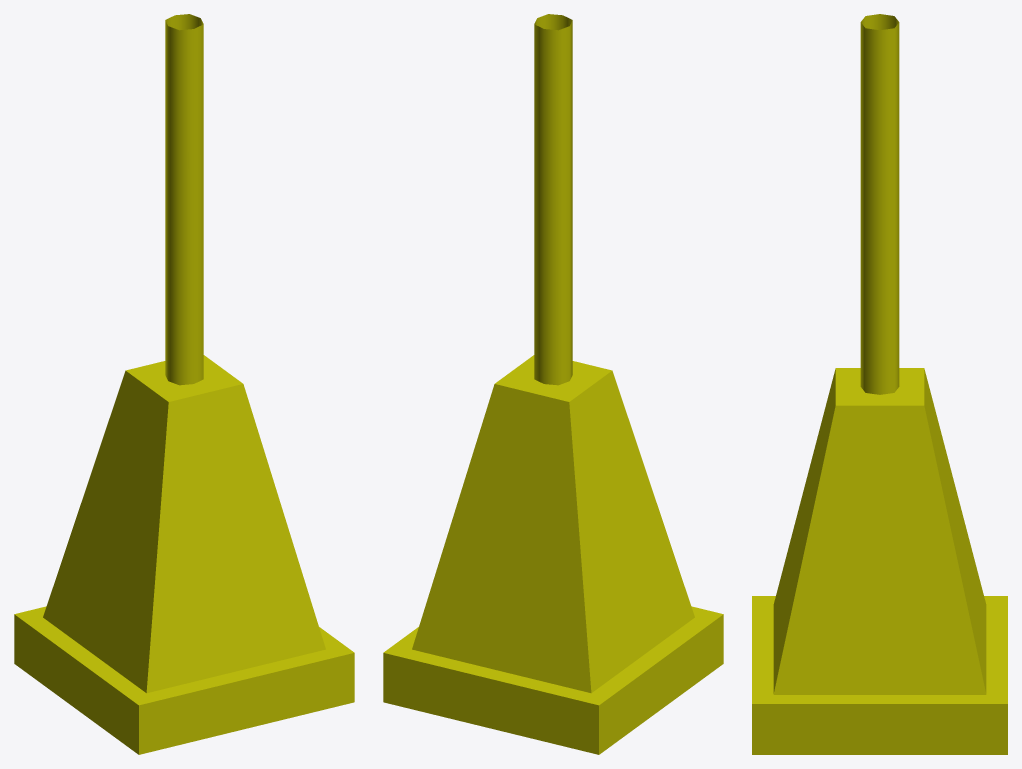
Rendered from 4pod.fbx.
3 renders of one model, left to right at view 1: azimuth 30°, elevation 25°; view 2: azimuth 150°, elevation 25°; view 3: azimuth 270°, elevation 25°, orthographic. The views are drawn at different scales.
Parts seen in each view (by area): view 1: Mesh; view 2: Mesh; view 3: Mesh.
Part boxes in pixels (x1,y1,x2,y2): Mesh: (14, 14, 354, 754); Mesh: (383, 14, 723, 754); Mesh: (752, 14, 1007, 754).
Size of the model in its own units: 63.81 by 187 by 63.81.
